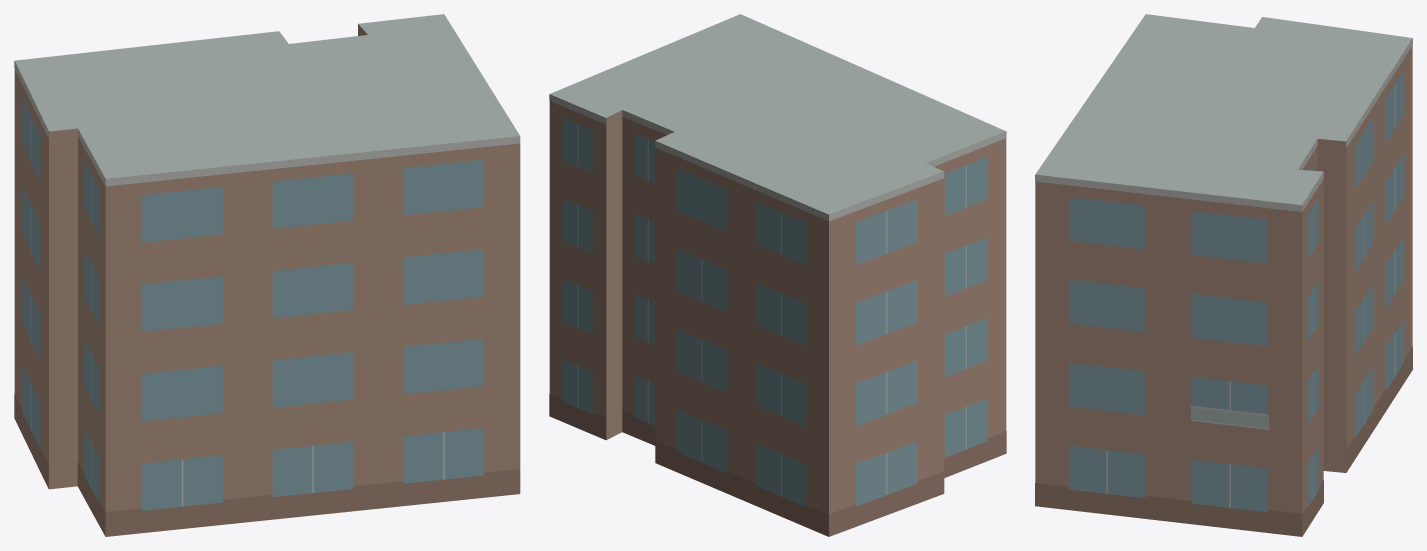
The model's file is survey-upis-32948640.glb.
3 renders of one model, left to right at view 1: azimuth 30°, elevation 25°; view 2: azimuth 150°, elevation 25°; view 3: azimuth 270°, elevation 25°, orthographic. The views are drawn at different scales.
Parts seen in each view (by area): view 1: survey-upis-32948640.tmp; view 2: survey-upis-32948640.tmp; view 3: survey-upis-32948640.tmp.
Boxes of the visible parts, x1=… form: survey-upis-32948640.tmp: x1=14, y1=14, x2=520, y2=536; survey-upis-32948640.tmp: x1=549, y1=14, x2=1006, y2=536; survey-upis-32948640.tmp: x1=1035, y1=14, x2=1412, y2=536.
Bounding box in the file's own units: 14.54 × 11.75 × 12.14.
